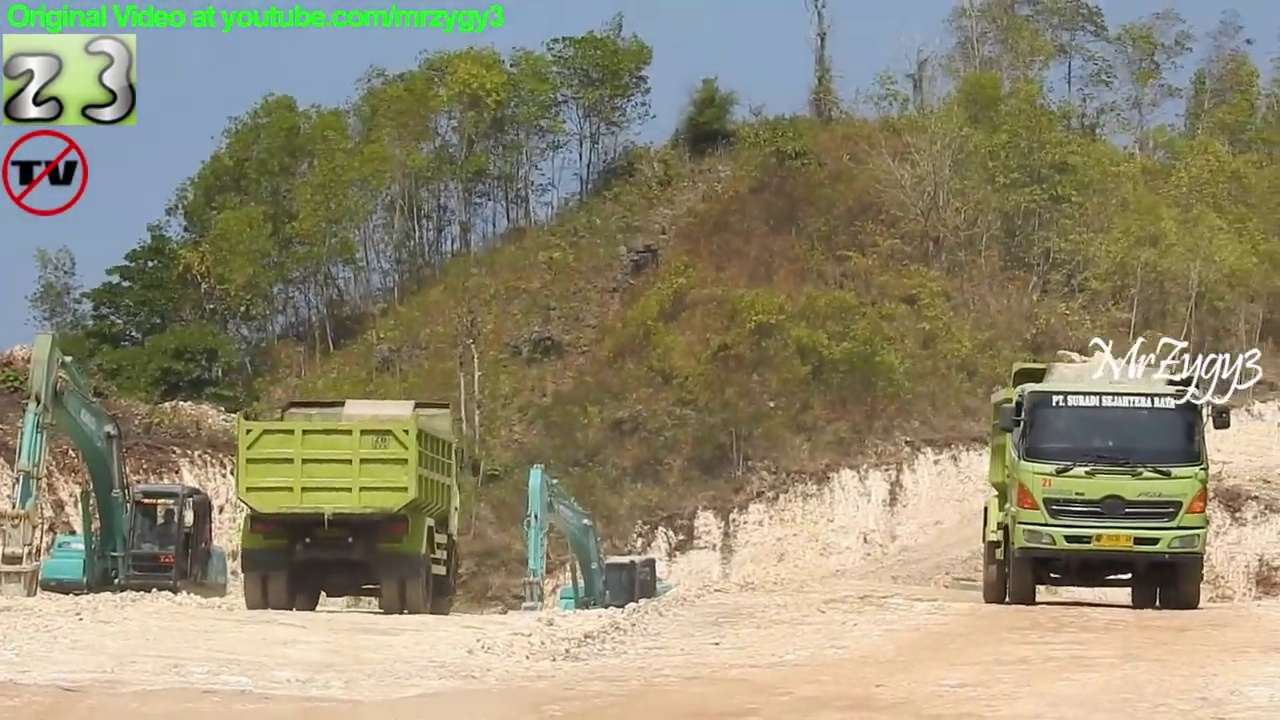excavator: (1, 328, 230, 643), (515, 461, 677, 651)
truck: (977, 350, 1238, 617), (236, 395, 468, 626)
